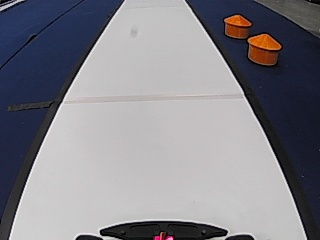granary: (246, 31, 281, 66), (221, 12, 252, 39)
